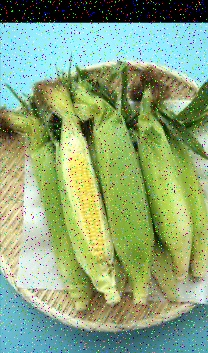corn: (63, 137, 107, 268)
corn_plant: (10, 113, 91, 304), (82, 84, 149, 283), (135, 98, 191, 271)
